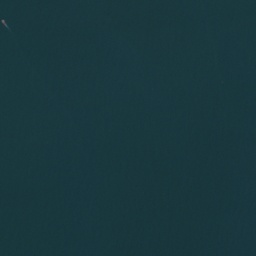Ship: (0, 19, 7, 26)
